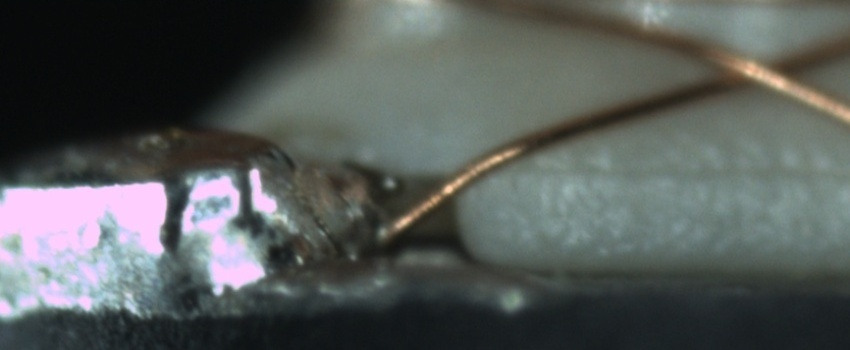CL: (695, 39, 830, 101)
DL: (490, 138, 849, 203)
